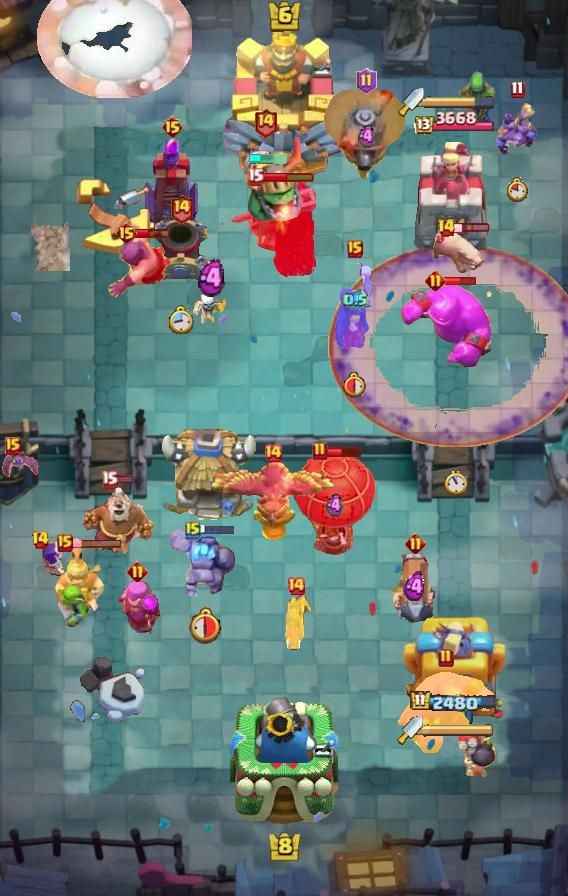axe: (332, 263, 378, 351)
bar: (401, 611, 505, 731), (412, 140, 494, 256)
barbarian-barrel: (0, 453, 40, 479)
battle-healer: (391, 553, 439, 629)
bomber-evolution: (278, 589, 314, 655)
cannon-cart: (292, 454, 376, 556)
clone: (397, 670, 495, 756), (399, 283, 495, 369)
dark-prince: (319, 90, 413, 178)
earthquake: (54, 547, 106, 617)
electro-spirit: (198, 259, 225, 298), (403, 571, 427, 603), (344, 289, 369, 311), (357, 124, 375, 150), (325, 493, 343, 519)
elixir: (186, 606, 222, 644), (168, 306, 194, 335), (344, 370, 369, 397), (444, 470, 468, 496), (508, 178, 529, 203)
elixir-collector: (79, 482, 157, 558)
emote: (261, 171, 314, 183), (71, 539, 123, 550), (326, 445, 363, 458), (454, 222, 491, 234), (135, 227, 171, 239), (442, 275, 477, 287), (199, 525, 235, 536), (114, 474, 134, 484)
fisherman: (31, 221, 71, 271)
giant: (431, 227, 489, 277)
giant-snowball: (457, 69, 497, 127)
goblin: (40, 540, 66, 576)
heal-spirit: (192, 293, 230, 327)
ice-golem: (456, 726, 498, 778)
ice-spirit: (248, 154, 288, 164)
ice-spirit-evolution-symbol: (142, 135, 202, 231)
inferno-tower: (220, 176, 316, 278)
king-tower: (220, 21, 348, 181), (230, 692, 338, 826)
king-tower-bar: (424, 95, 496, 109), (423, 723, 495, 737)
monk: (106, 233, 172, 299)
mother-witch: (209, 460, 337, 532)
musketeer: (150, 216, 212, 284)
night-witch: (224, 131, 306, 225)
prince: (157, 429, 259, 525)
rascal-girl: (113, 576, 161, 644)
rocket: (328, 244, 568, 448)
royal-delivery: (495, 101, 539, 157)
selected: (410, 690, 499, 714), (412, 111, 494, 137)
text: (254, 107, 279, 138), (170, 193, 195, 224), (114, 221, 138, 245), (161, 115, 184, 139), (355, 68, 376, 94), (426, 269, 447, 291), (405, 533, 426, 555), (128, 561, 149, 583), (263, 443, 283, 463), (286, 576, 306, 596), (436, 218, 455, 238), (31, 530, 50, 550), (101, 470, 119, 489), (247, 167, 264, 186), (312, 441, 328, 461), (185, 520, 201, 540), (438, 648, 454, 668), (347, 240, 363, 258), (5, 437, 21, 455), (57, 534, 73, 552), (511, 80, 525, 99)
valkyrie-evolution: (170, 526, 236, 598)
wall-breaker: (36, 0, 191, 98)
zap: (55, 584, 95, 628)
